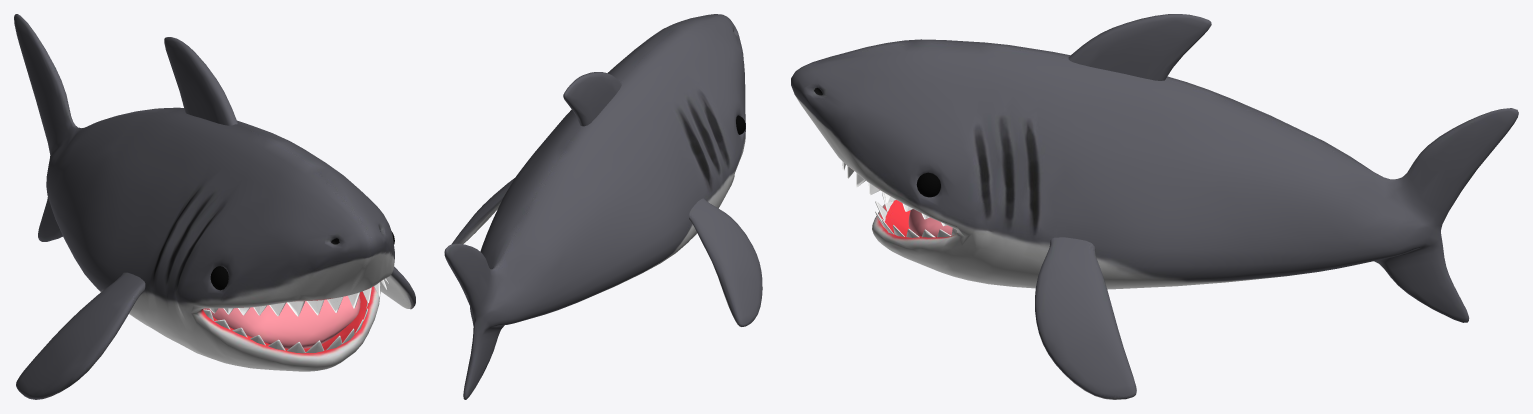
The model's file is toy_plush_shark.glb.
3 views of the same model, side by side, from view 1: azimuth 30°, elevation 25°; view 2: azimuth 150°, elevation 25°; view 3: azimuth 270°, elevation 25° (orthographic). The views are drawn at different scales.
Parts seen in each view (by area): view 1: toy_plush_shark; view 2: toy_plush_shark; view 3: toy_plush_shark.
Boxes of the visible parts, bbox=[...] form: toy_plush_shark: bbox=[14, 14, 415, 399]; toy_plush_shark: bbox=[444, 14, 762, 399]; toy_plush_shark: bbox=[791, 14, 1518, 399].
Bounding box in the file's own units: 13.14 × 10 × 21.39.
2 materials, 1 textured.
